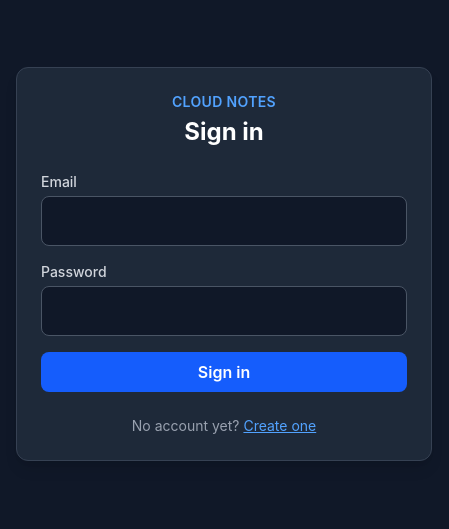
Test: LoginPage › shows a generic message for invalid credentials
This screenshot has width=449, height=529.
In the field labelled "Email": coordinates (224, 221) 41,196 -> 407,246, type "ann@example.com"
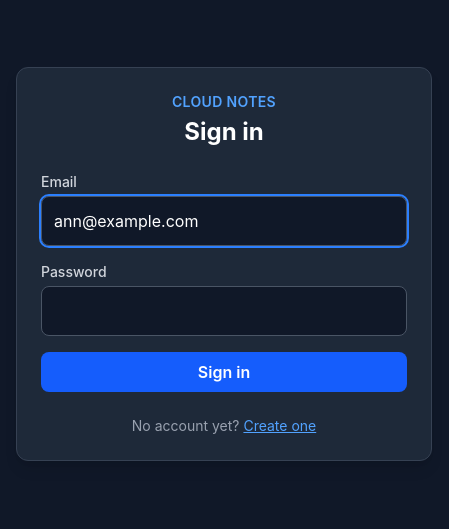
In the password field labelled "Password": coordinates (224, 311) 41,286 -> 407,336, type "wrong-password-1"
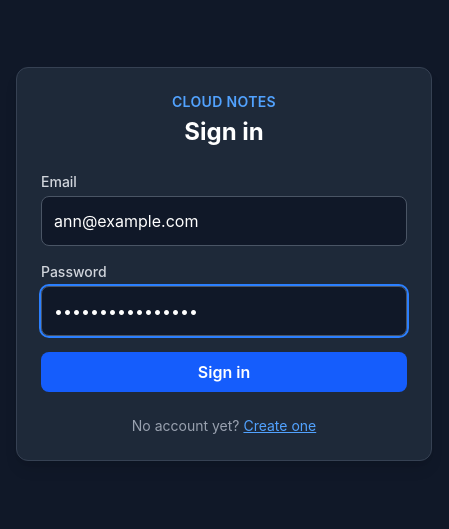
Click the button "Sign in": coordinates (224, 372) 41,352 -> 407,392
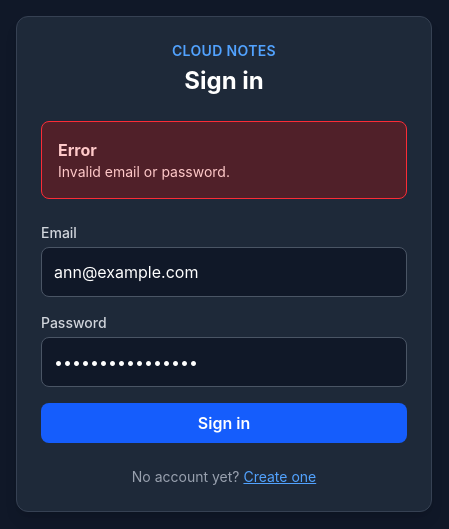
Expected: the message shows "Invalid email or password.", 58,163 -> 230,180
